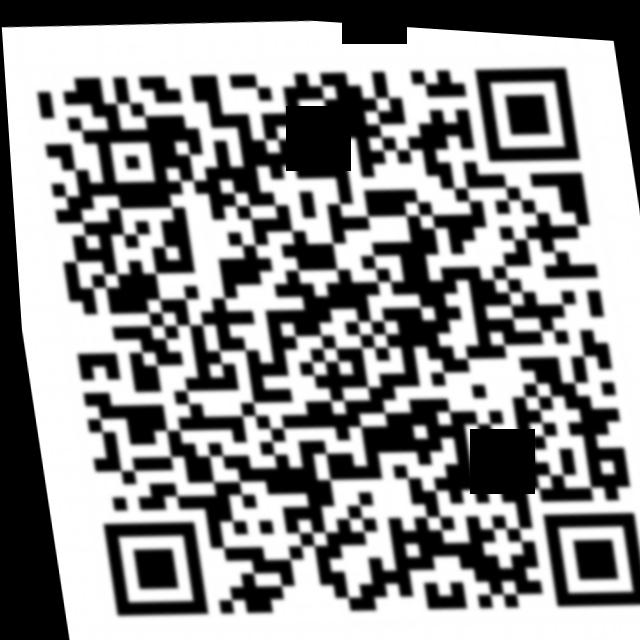QR_CODE: (11, 12, 640, 640)
